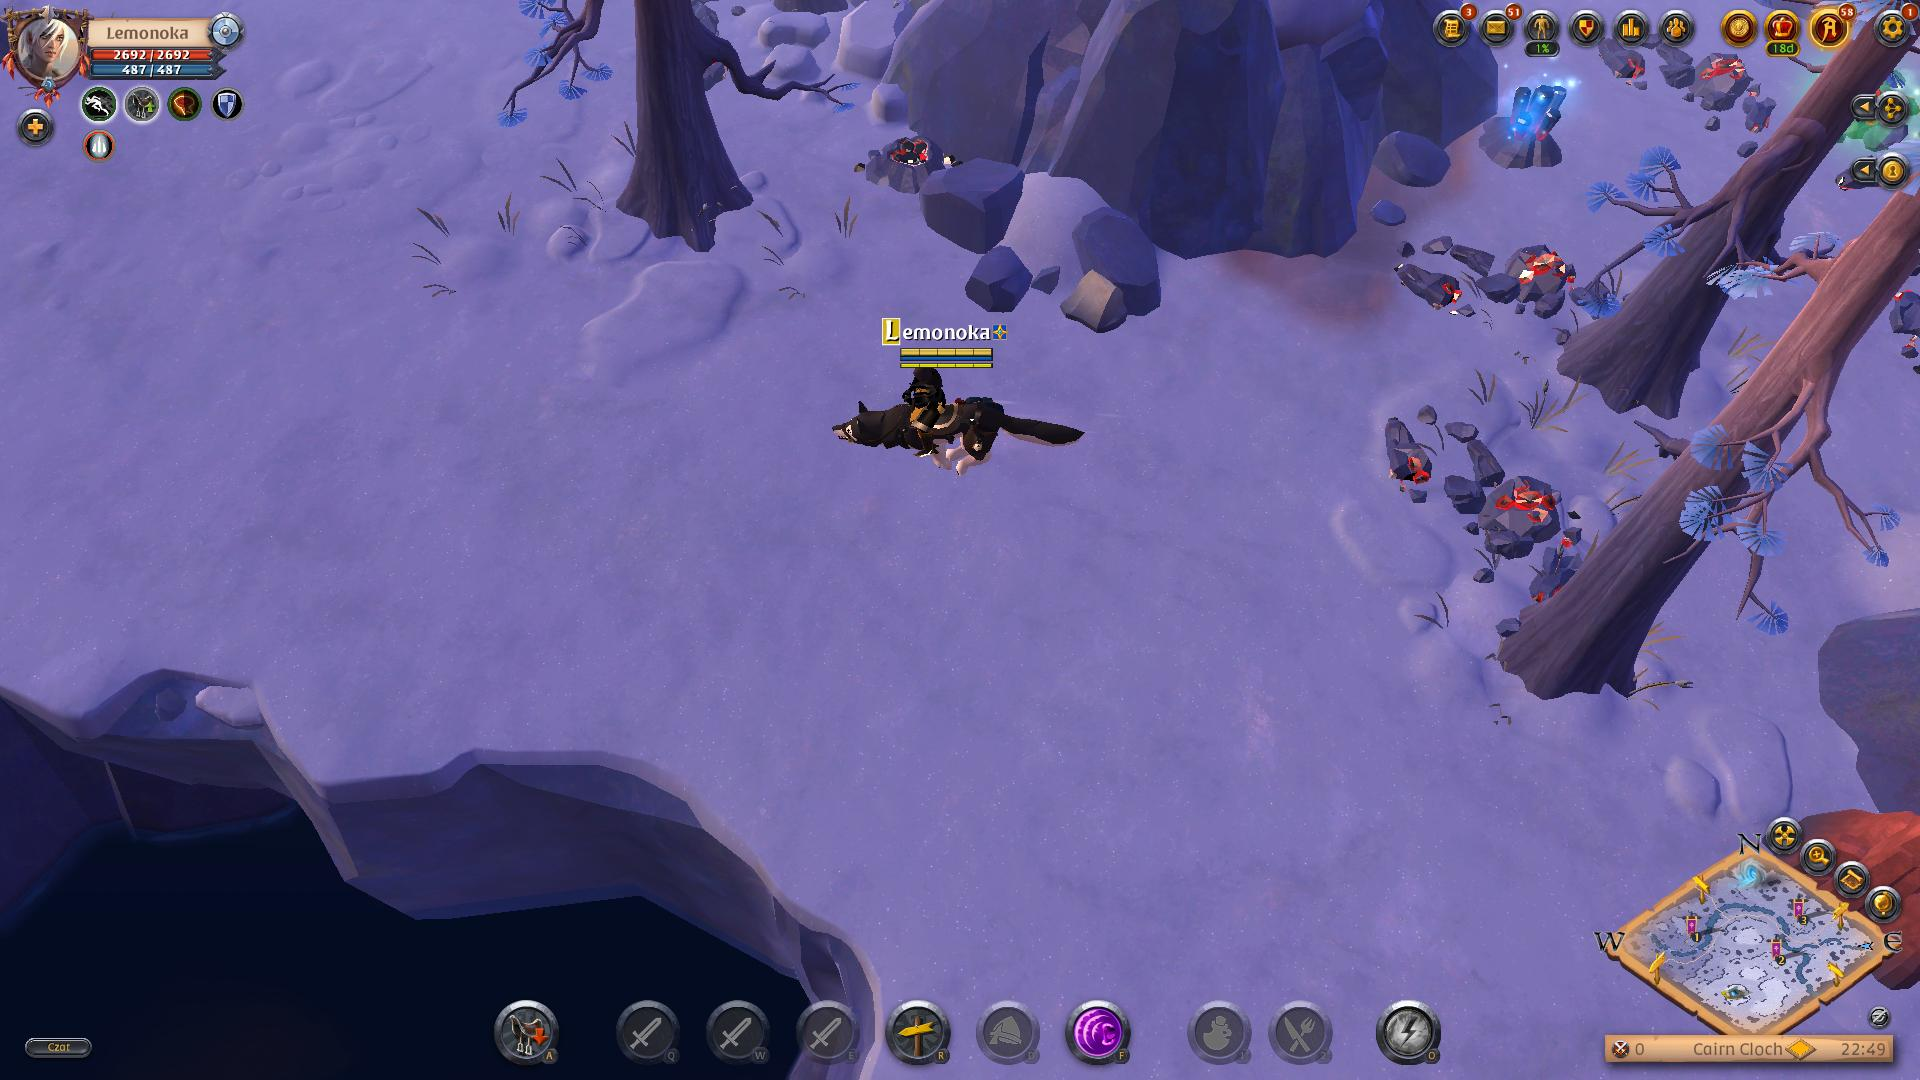ore tier 5: (1490, 75, 1567, 178)
